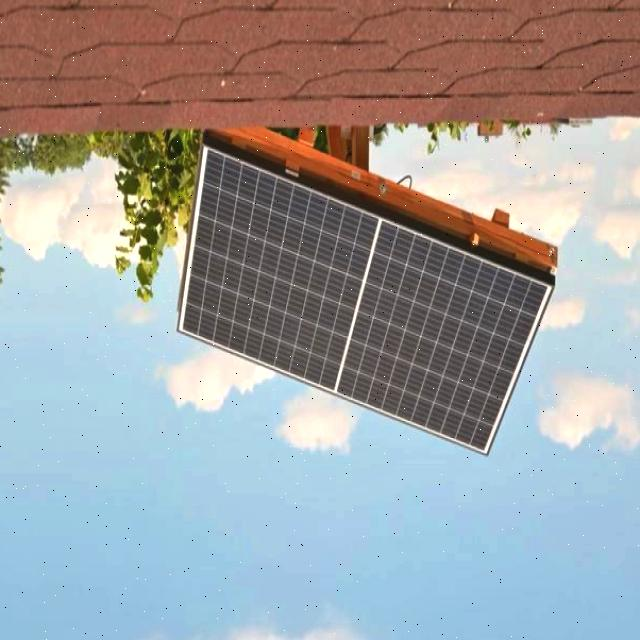Normal Solar Panel: (177, 140, 552, 452)
